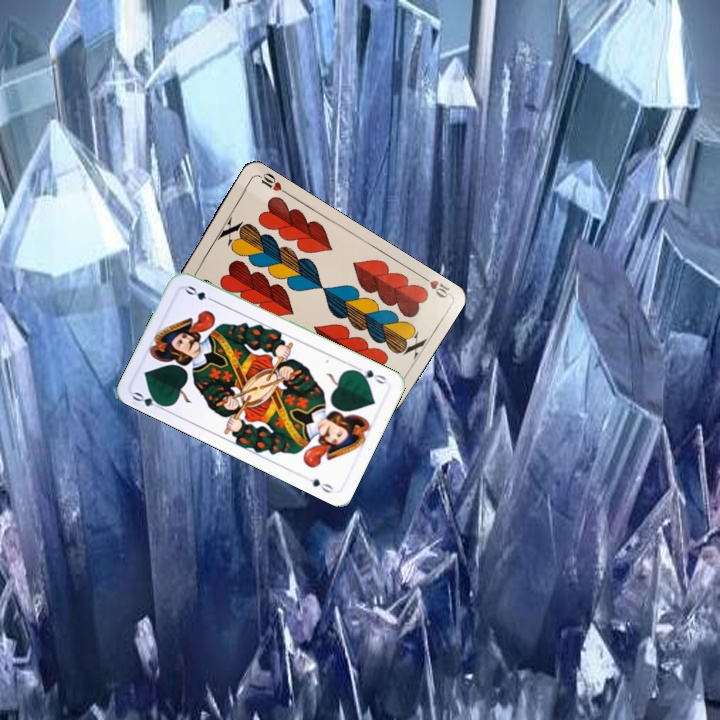GO: (128, 388, 169, 413), (351, 366, 390, 387)
H10: (416, 270, 453, 301)
